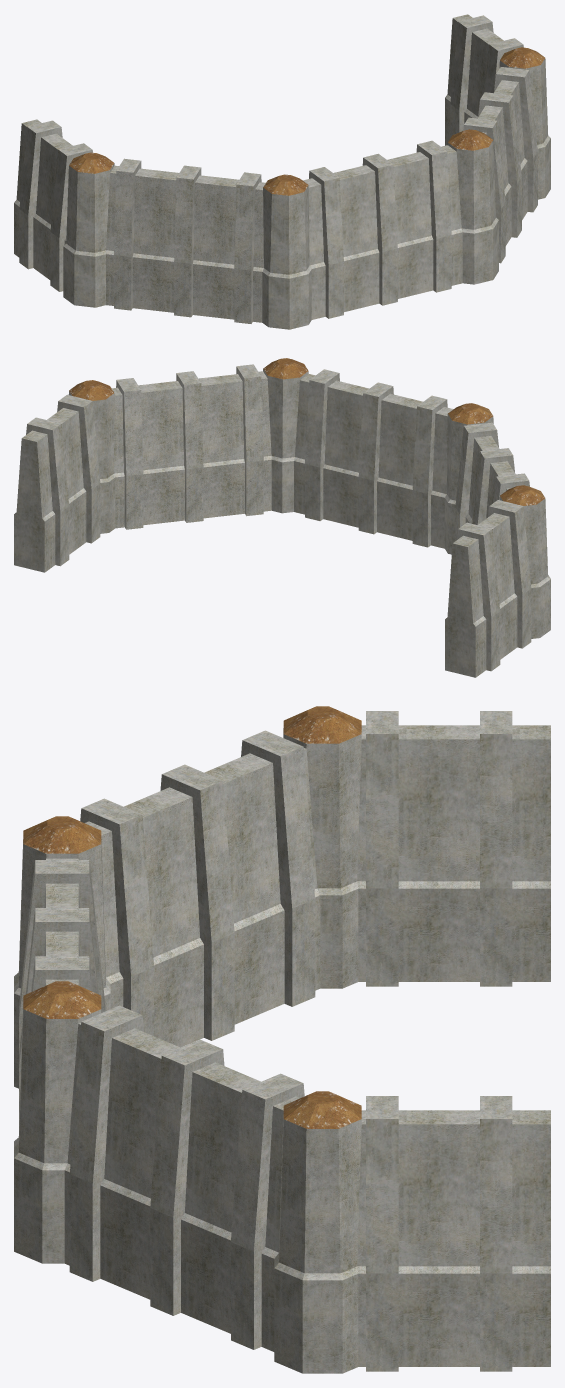
File: poi_all_rebl_corral_half_32x32_s01_l0.fbx
The picture shows the model from 3 angles, top to bottom: view 1: azimuth 30°, elevation 25°; view 2: azimuth 150°, elevation 25°; view 3: azimuth 270°, elevation 25°; orthographic projection. The views are drawn at different scales.
Parts seen in each view (by area): view 1: mesh_node; view 2: mesh_node; view 3: mesh_node.
Part boxes in pixels (x1,y1,x2,y2): mesh_node: (14, 14, 550, 329); mesh_node: (14, 358, 550, 677); mesh_node: (14, 706, 550, 1373).
Bounding box in the file's own units: 23.23 × 6.5 × 12.38.
